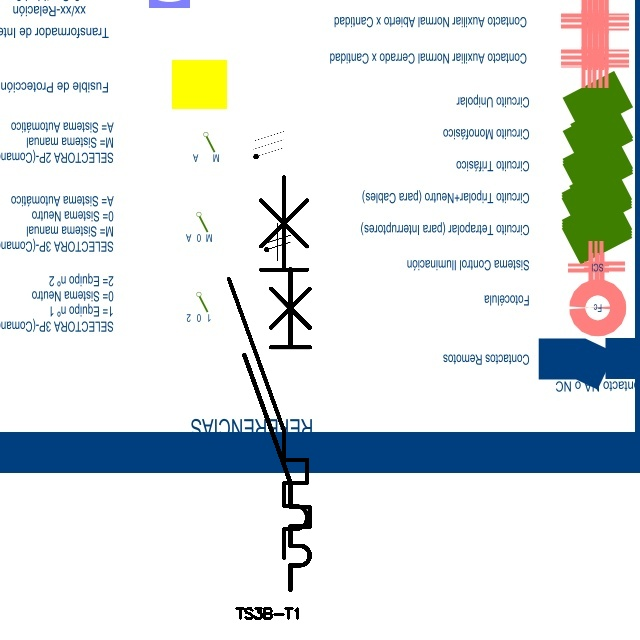interruptor_termomagnetico: (219, 167, 317, 568), (236, 261, 318, 598)
